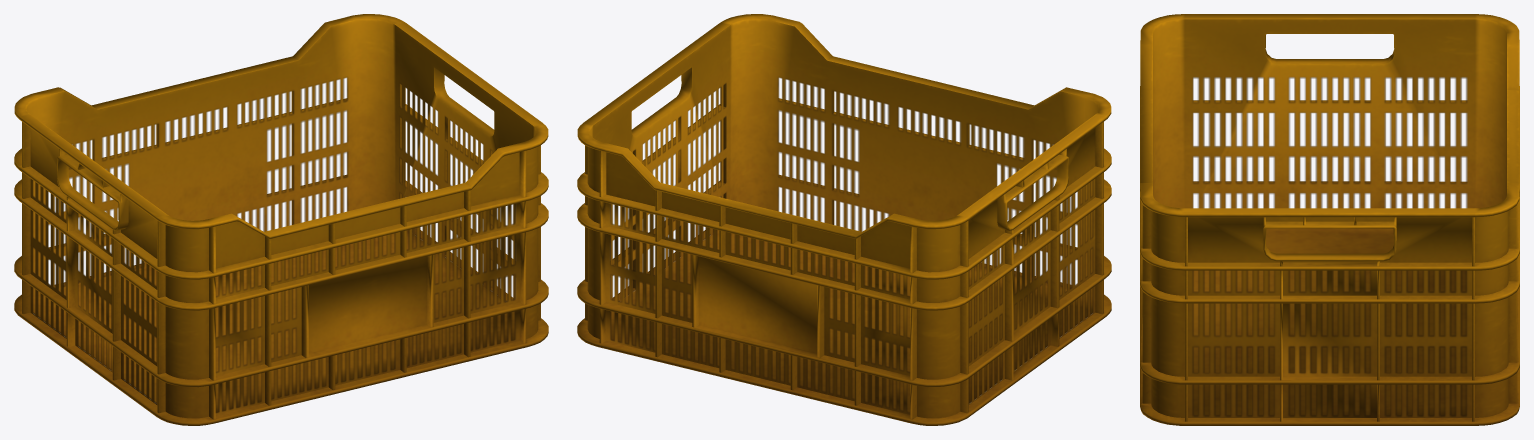
Rendered from plastic_crate_02.glb.
The picture shows the model from 3 angles, left to right: view 1: azimuth 30°, elevation 25°; view 2: azimuth 150°, elevation 25°; view 3: azimuth 270°, elevation 25°; orthographic projection. The views are drawn at different scales.
Parts seen in each view (by area): view 1: plastic_crate_02; view 2: plastic_crate_02; view 3: plastic_crate_02.
Part boxes in pixels (x1,y1,x2,y2): plastic_crate_02: [14, 14, 548, 425]; plastic_crate_02: [577, 14, 1111, 425]; plastic_crate_02: [1140, 14, 1519, 425].
Size of the model in its own units: 0.5055 by 0.2541 by 0.4055.
1 material, 1 textured.
